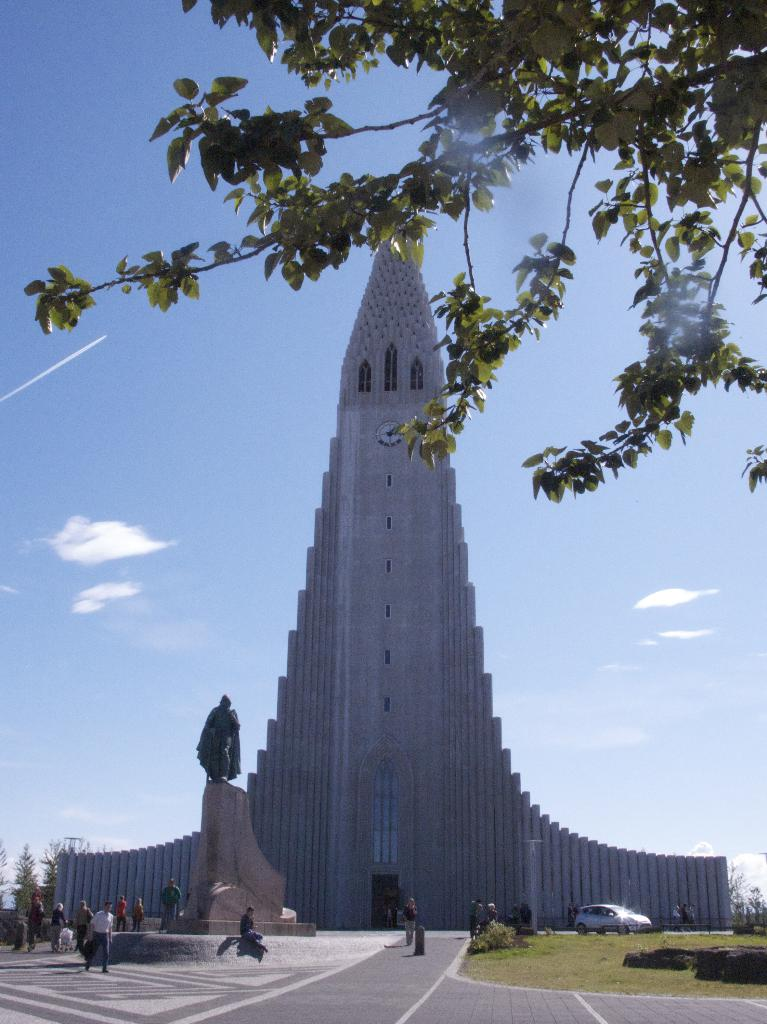Tree: (28, 5, 762, 501), (42, 835, 107, 900), (724, 861, 766, 935), (7, 842, 48, 917), (0, 833, 12, 919)
